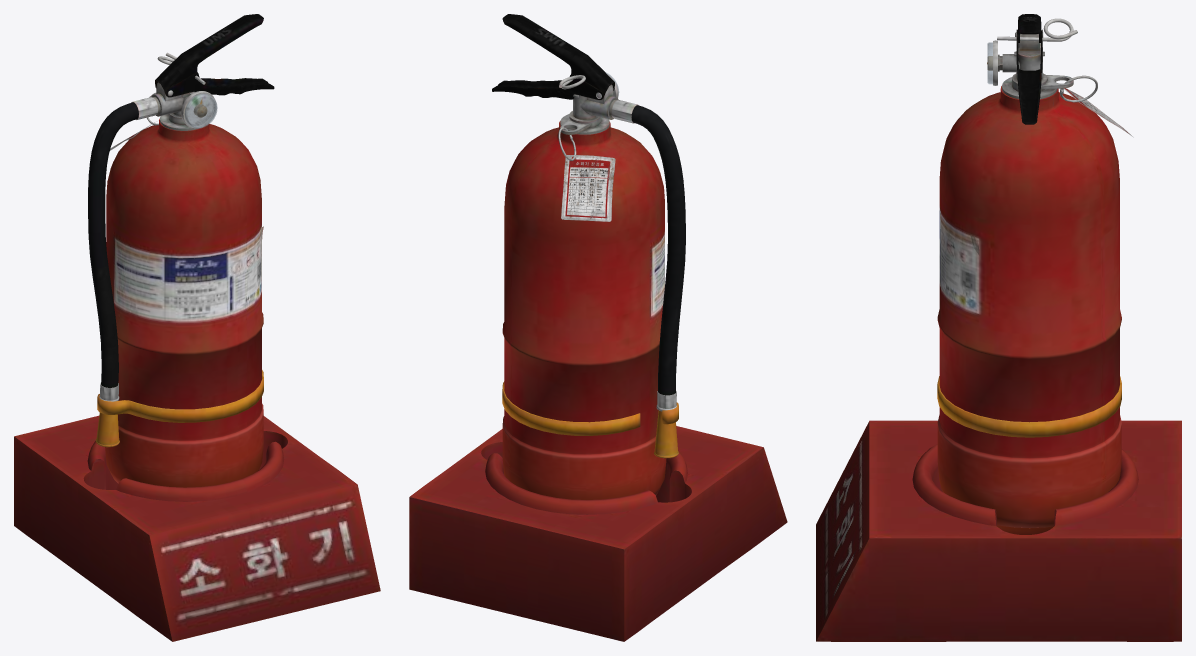
The model's file is korean_fire_extinguisher_01.glb.
3 renders of one model, left to right at view 1: azimuth 30°, elevation 25°; view 2: azimuth 150°, elevation 25°; view 3: azimuth 270°, elevation 25°, orthographic. The views are drawn at different scales.
Parts seen in each view (by area): view 1: korean_fire_extinguisher_01; view 2: korean_fire_extinguisher_01; view 3: korean_fire_extinguisher_01.
Boxes of the visible parts, x1,y1,x2,y2 form: korean_fire_extinguisher_01: [14, 14, 380, 641]; korean_fire_extinguisher_01: [409, 14, 787, 641]; korean_fire_extinguisher_01: [816, 14, 1181, 641].
Bounding box in the file's own units: 0.2799 × 0.6593 × 0.3674.
Materials: 3 (3 with a texture image).
